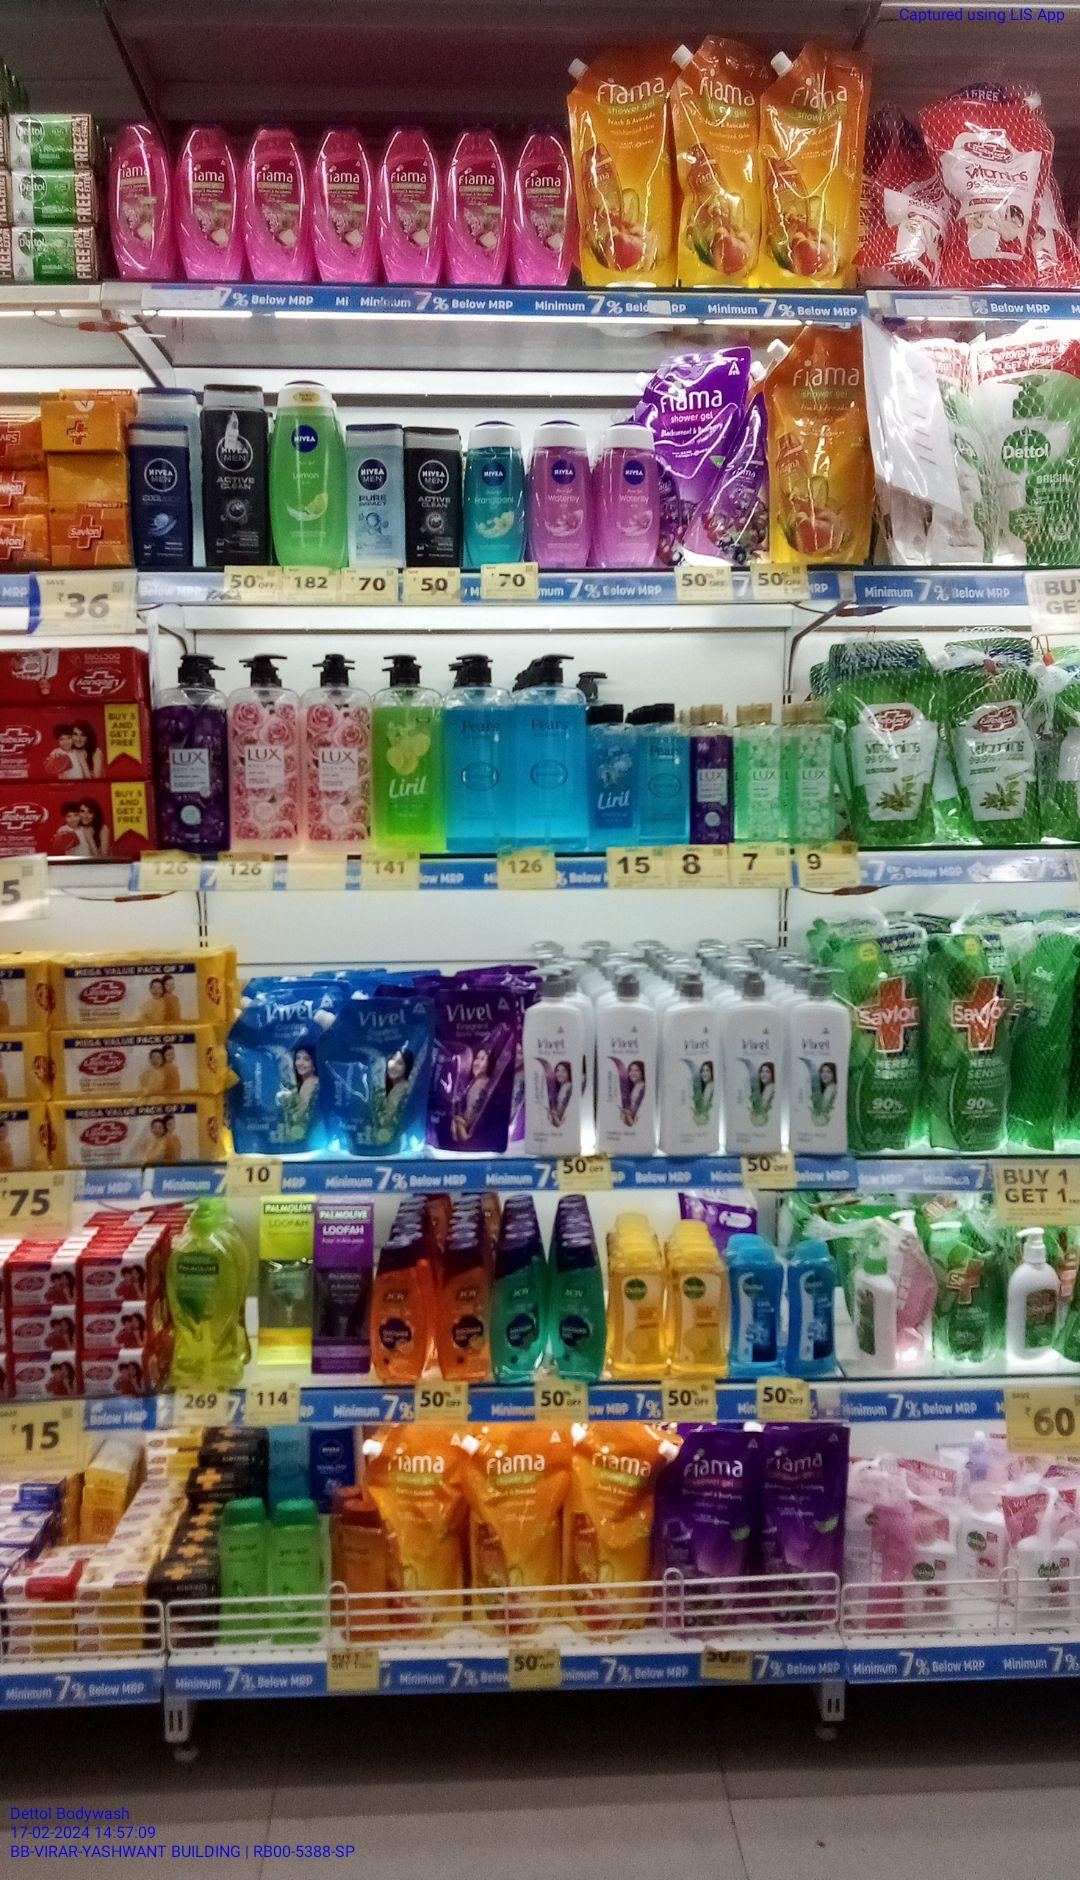Dettol_Bodywash_Cool: (787, 1237, 838, 1375), (734, 1234, 782, 1374)
Dettol_Bodywash_Refresh: (669, 1238, 731, 1383), (610, 1234, 669, 1376)
Fiama_Shower_Gel_Patchouli_and_Macadamia_250ML: (109, 117, 177, 283), (245, 123, 311, 284), (313, 124, 379, 284), (181, 119, 242, 280), (380, 124, 439, 284), (510, 128, 570, 287), (447, 125, 504, 284)
Joy_Shower_Gel_Mandarin_and_Lemongrass_250ML: (372, 1241, 429, 1391), (435, 1238, 492, 1385)
Joy_Shower_Gel_Mint_and_Eucalyptus_250ML: (492, 1234, 549, 1382), (550, 1237, 606, 1382)
Liril_Cooling_Mint_Body_Wash_250ML: (585, 704, 642, 857)
Lux_Black_Orchid_Scent_and_Juniper_Oil_Body_Wash_245ML: (691, 699, 735, 846)
Lux_Body_Wash_Skin_Detox_Freesia_Scent_and_Alove_Vera_245ML: (791, 695, 838, 848), (739, 699, 784, 844)
Nivea_Shower_Gel_Frangipani_and_Oil_250ML: (465, 420, 526, 567)
Nivea_Shower_Gel_Lemon_and_Oil_250ML: (273, 380, 342, 571)
Nivea_Shower_Gel_Waterlily_and_Oil_250ML: (526, 403, 588, 572), (593, 426, 659, 569)
Pears_Pure_Glycerin_and_Mint_Extracts_Body_Wash_250ML: (643, 700, 689, 839)
